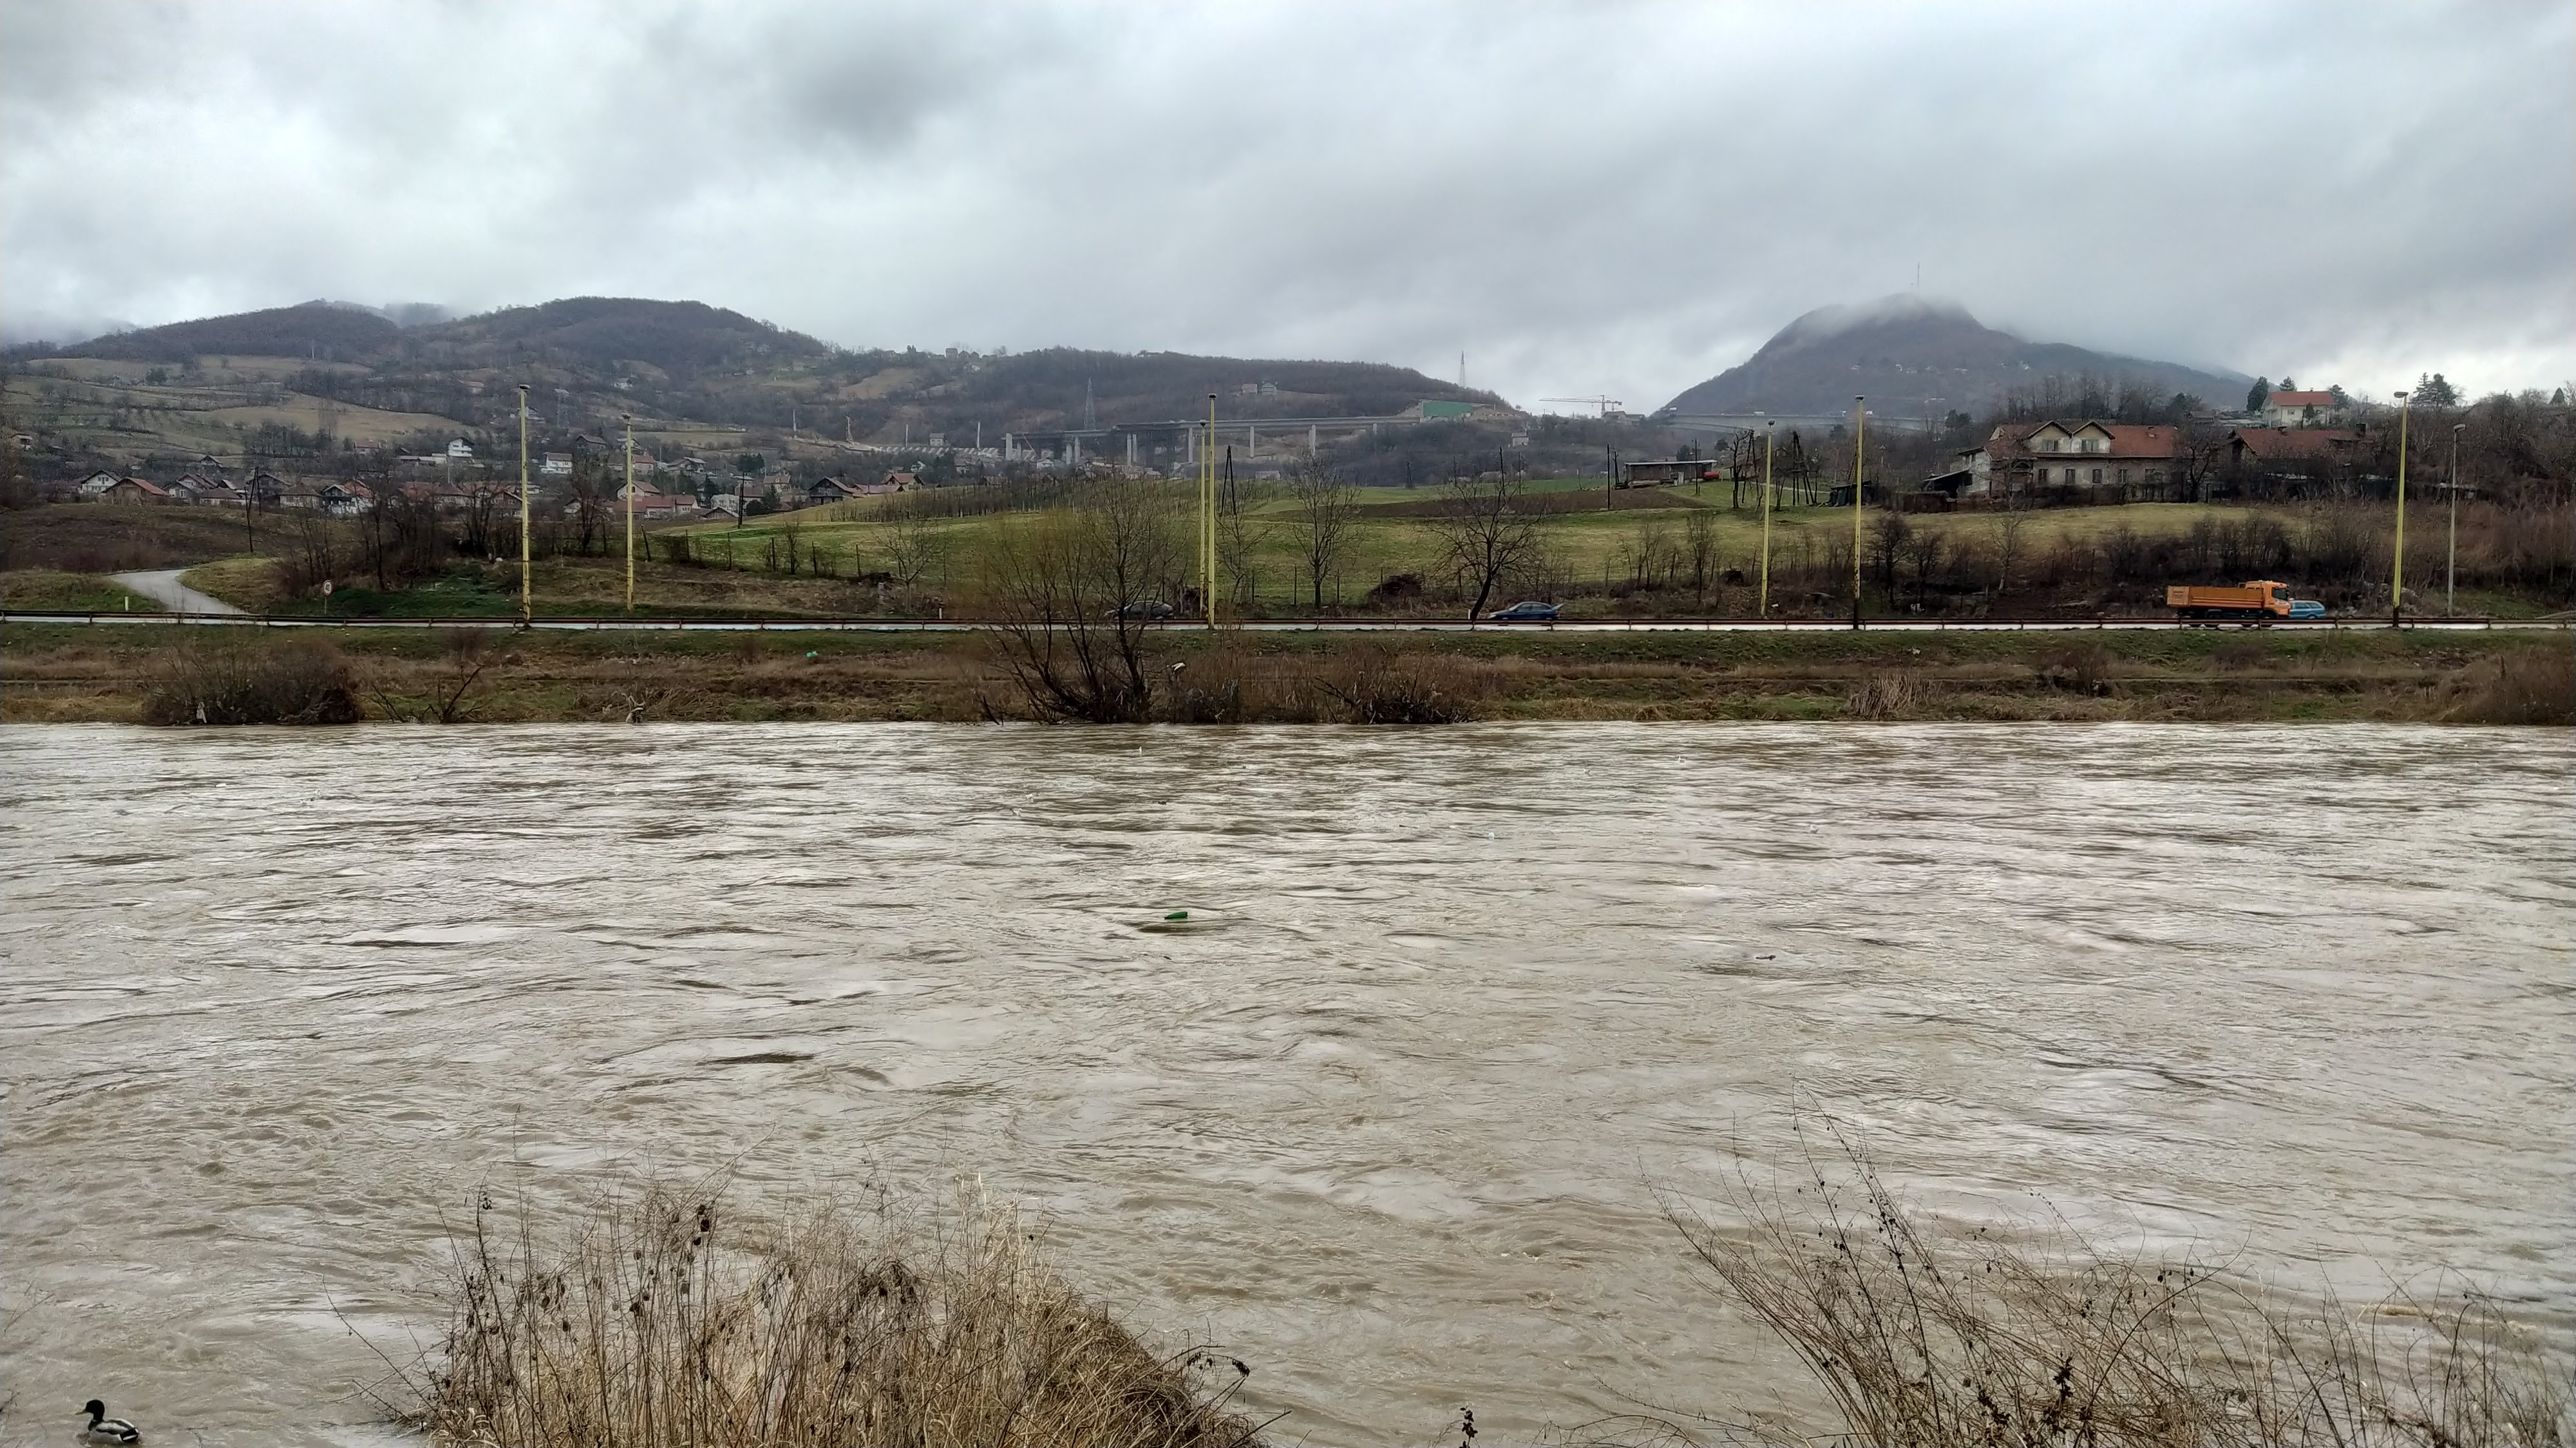Plastic Bottle: (1164, 912, 1187, 919), (216, 782, 226, 788)
